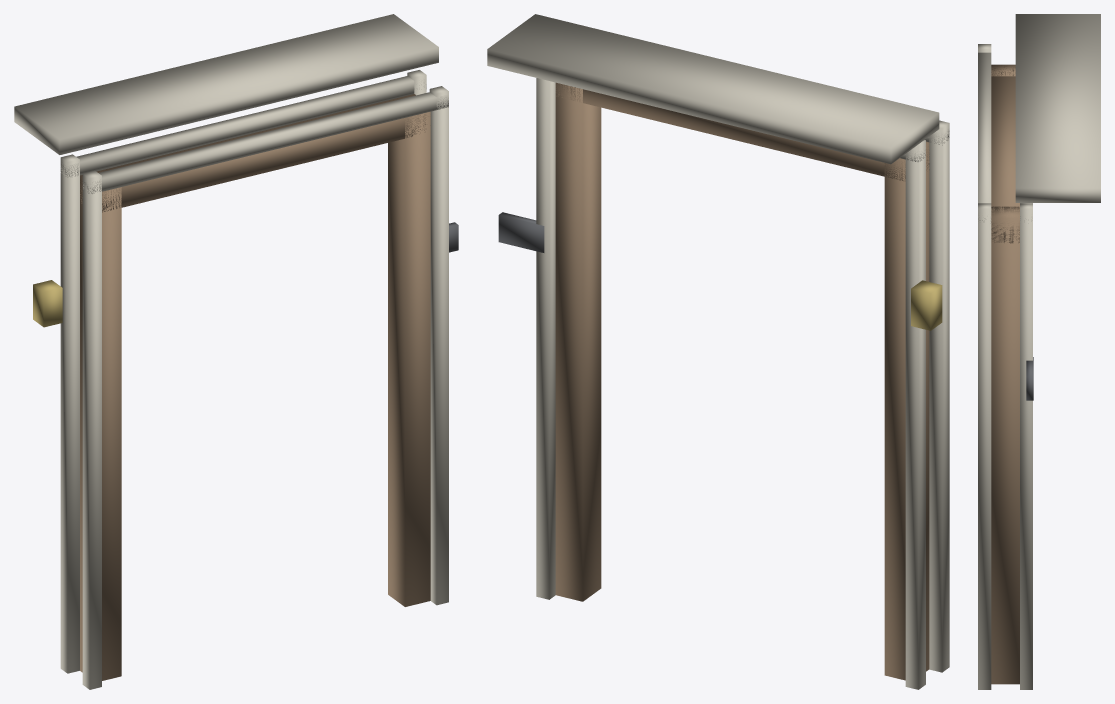
Rendered from doorway_motel_w152_h240_d16.glb.
3 renders of one model, left to right at view 1: azimuth 30°, elevation 25°; view 2: azimuth 150°, elevation 25°; view 3: azimuth 270°, elevation 25°, orthographic. The views are drawn at different scales.
Visible parts, largest first — view 1: world; view 2: world; view 3: world.
Part boxes in pixels (box(x1,y1,x2,y2)): world: box(14, 14, 458, 689); world: box(487, 14, 949, 689); world: box(978, 14, 1100, 689).
Bounding box in the file's own units: 2.22 × 2.76 × 0.6058.
